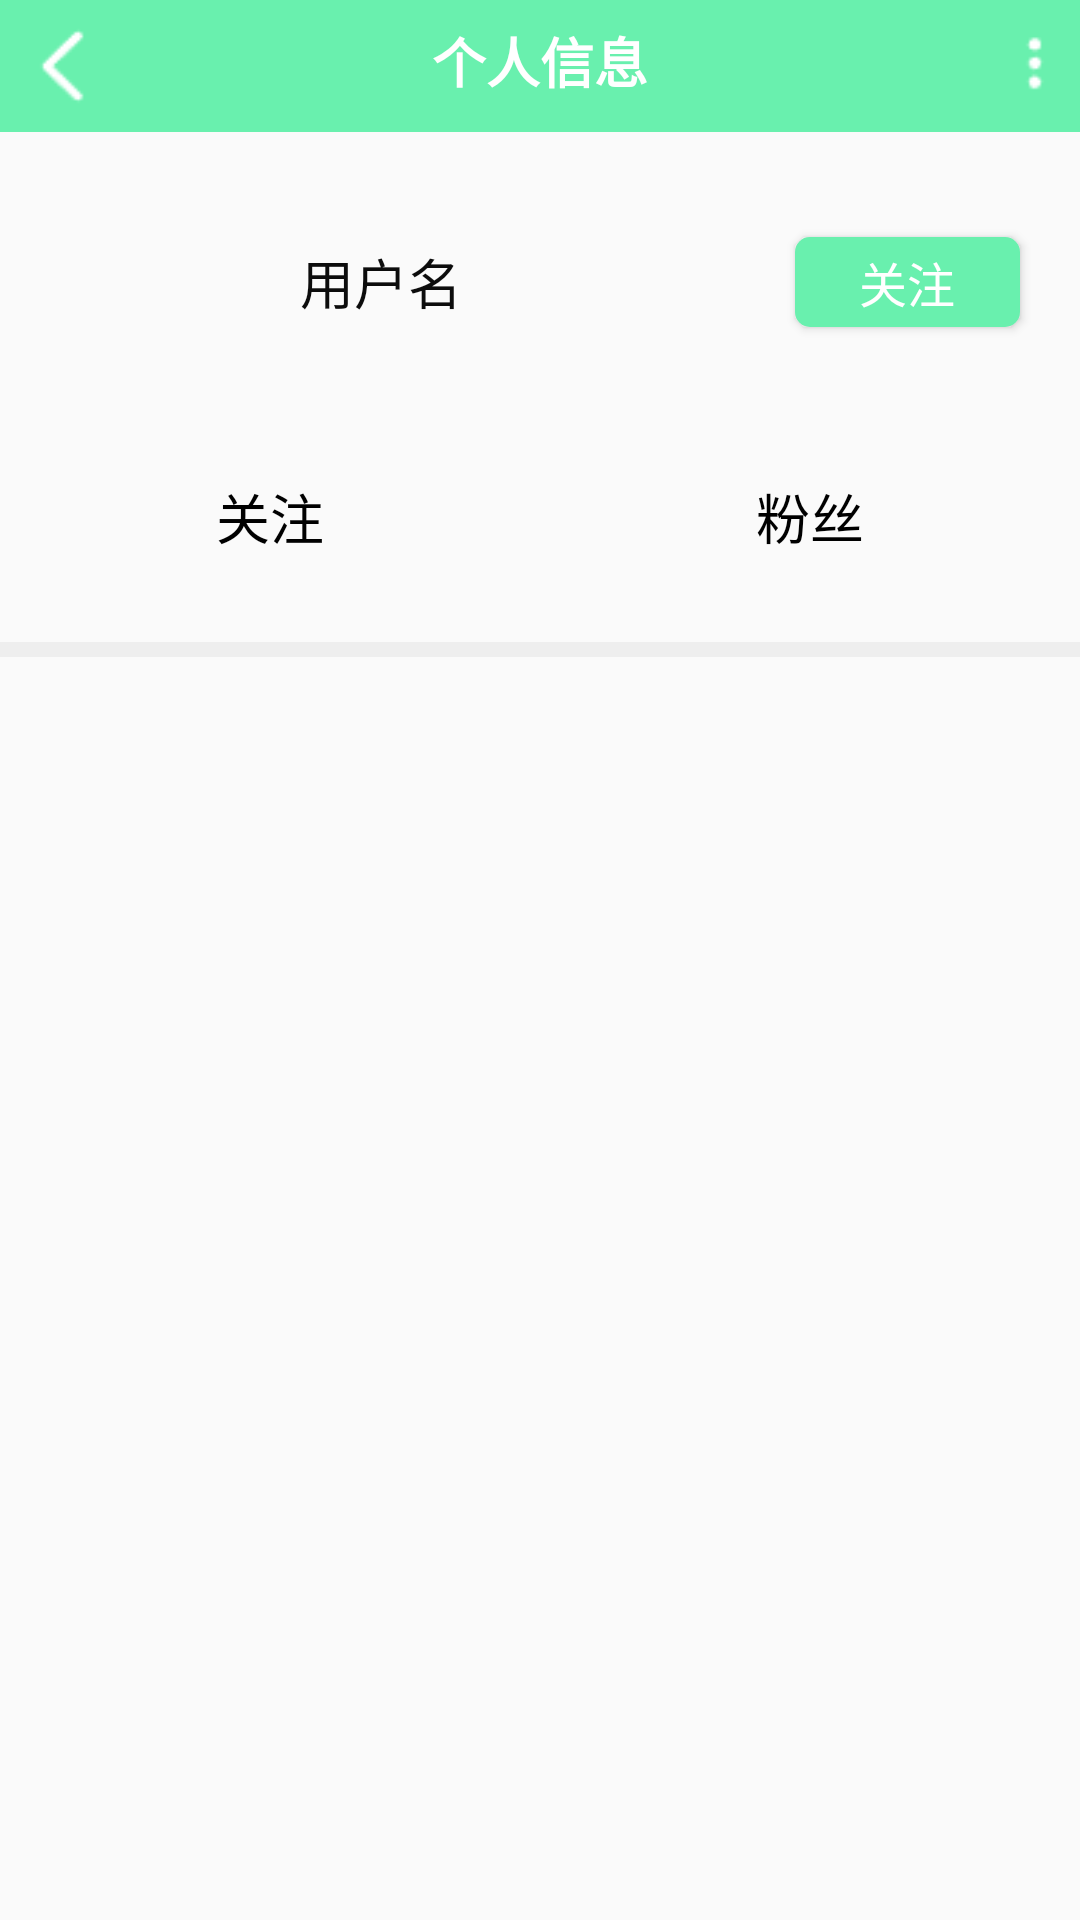

Screen size 1080px×1920px. Icon name, then its center in pixels as [x,y]:
back: [63,66]
menu: [1034,63]
